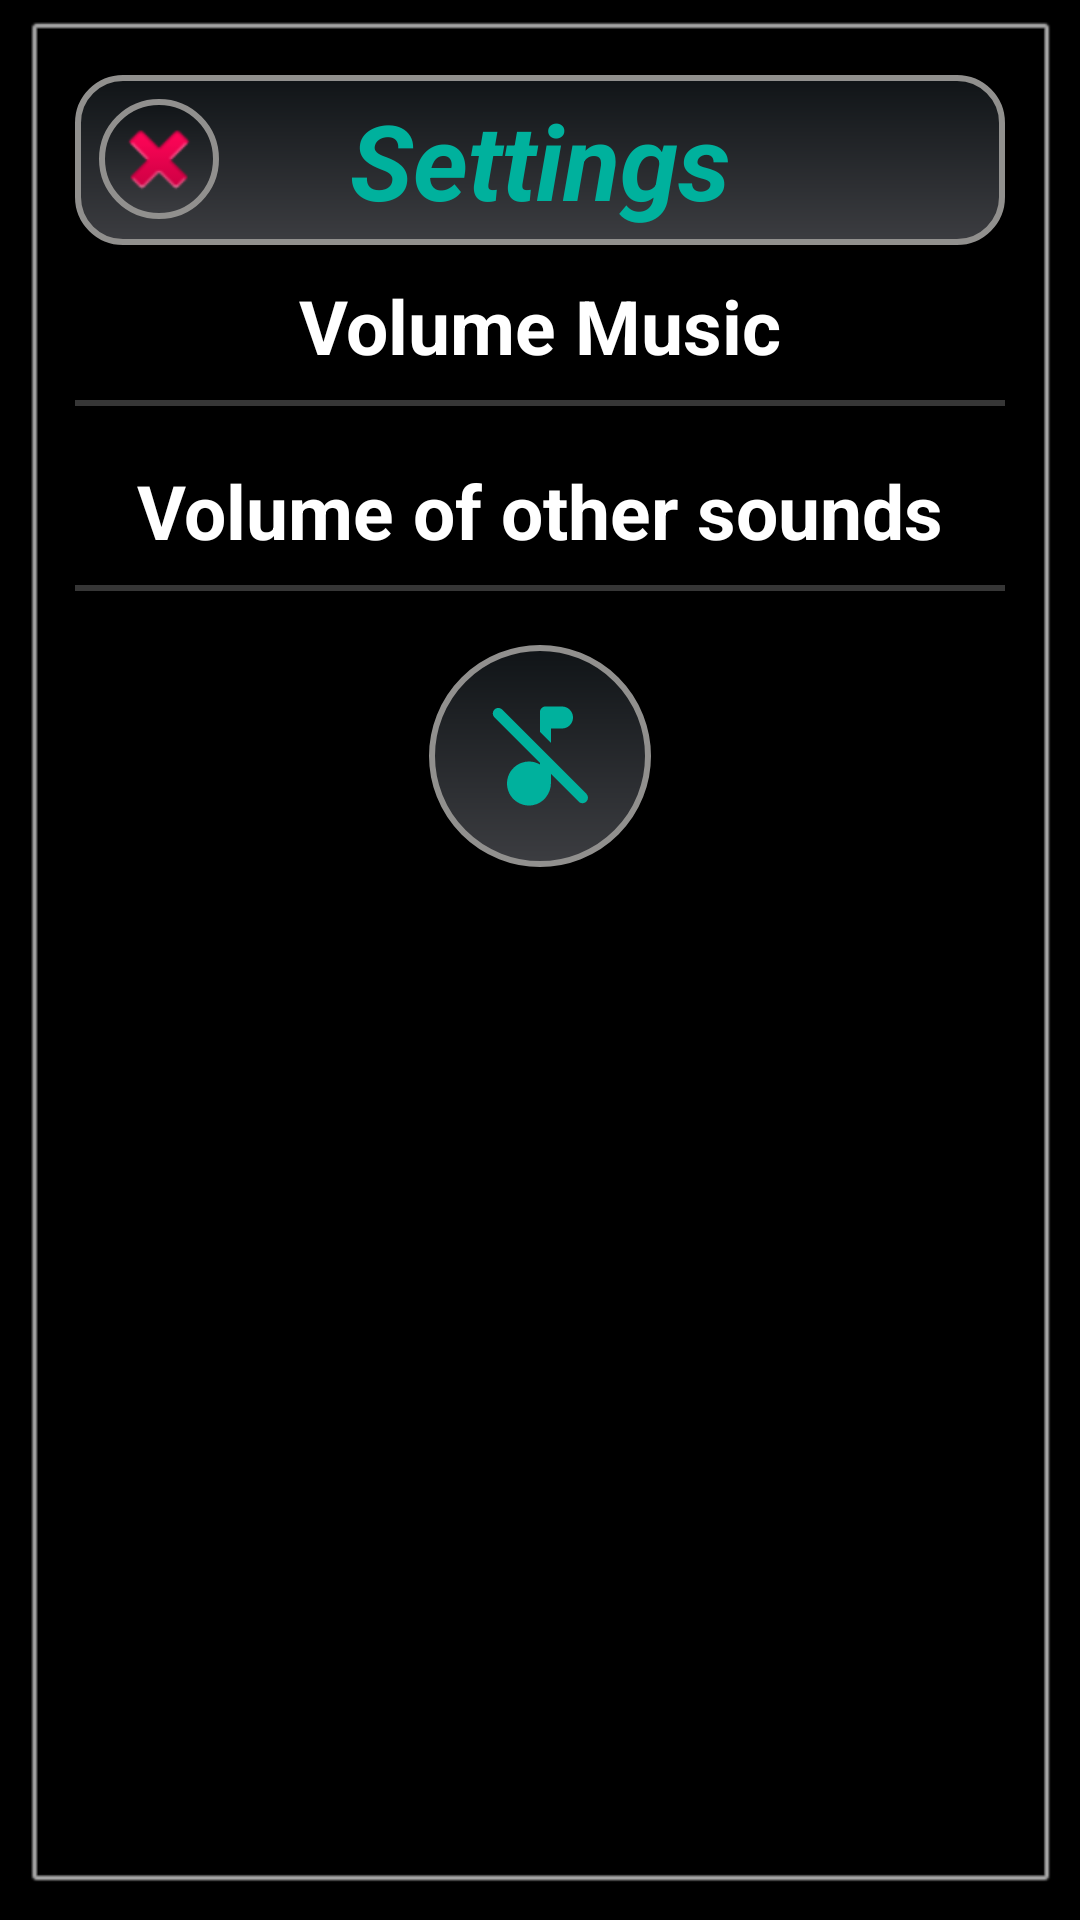

Locate icon controls on the screen. Image size 1080 x 1920, boxes as (x1, y1, x2, y2).
delete: (99, 99, 219, 219)
music off: (429, 645, 651, 867)
